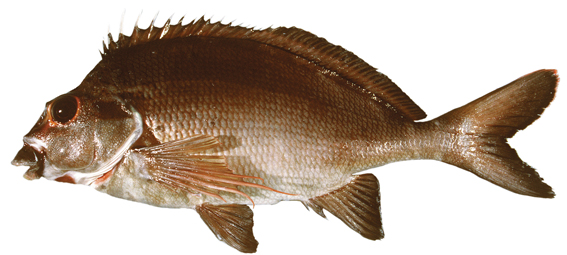fish: (11, 10, 560, 255)
